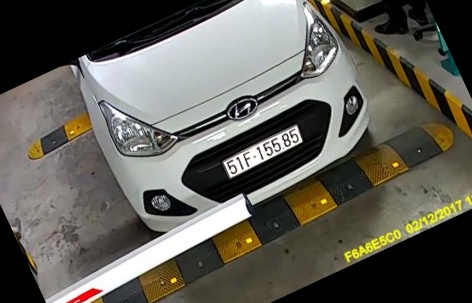plate: (208, 121, 313, 182)
